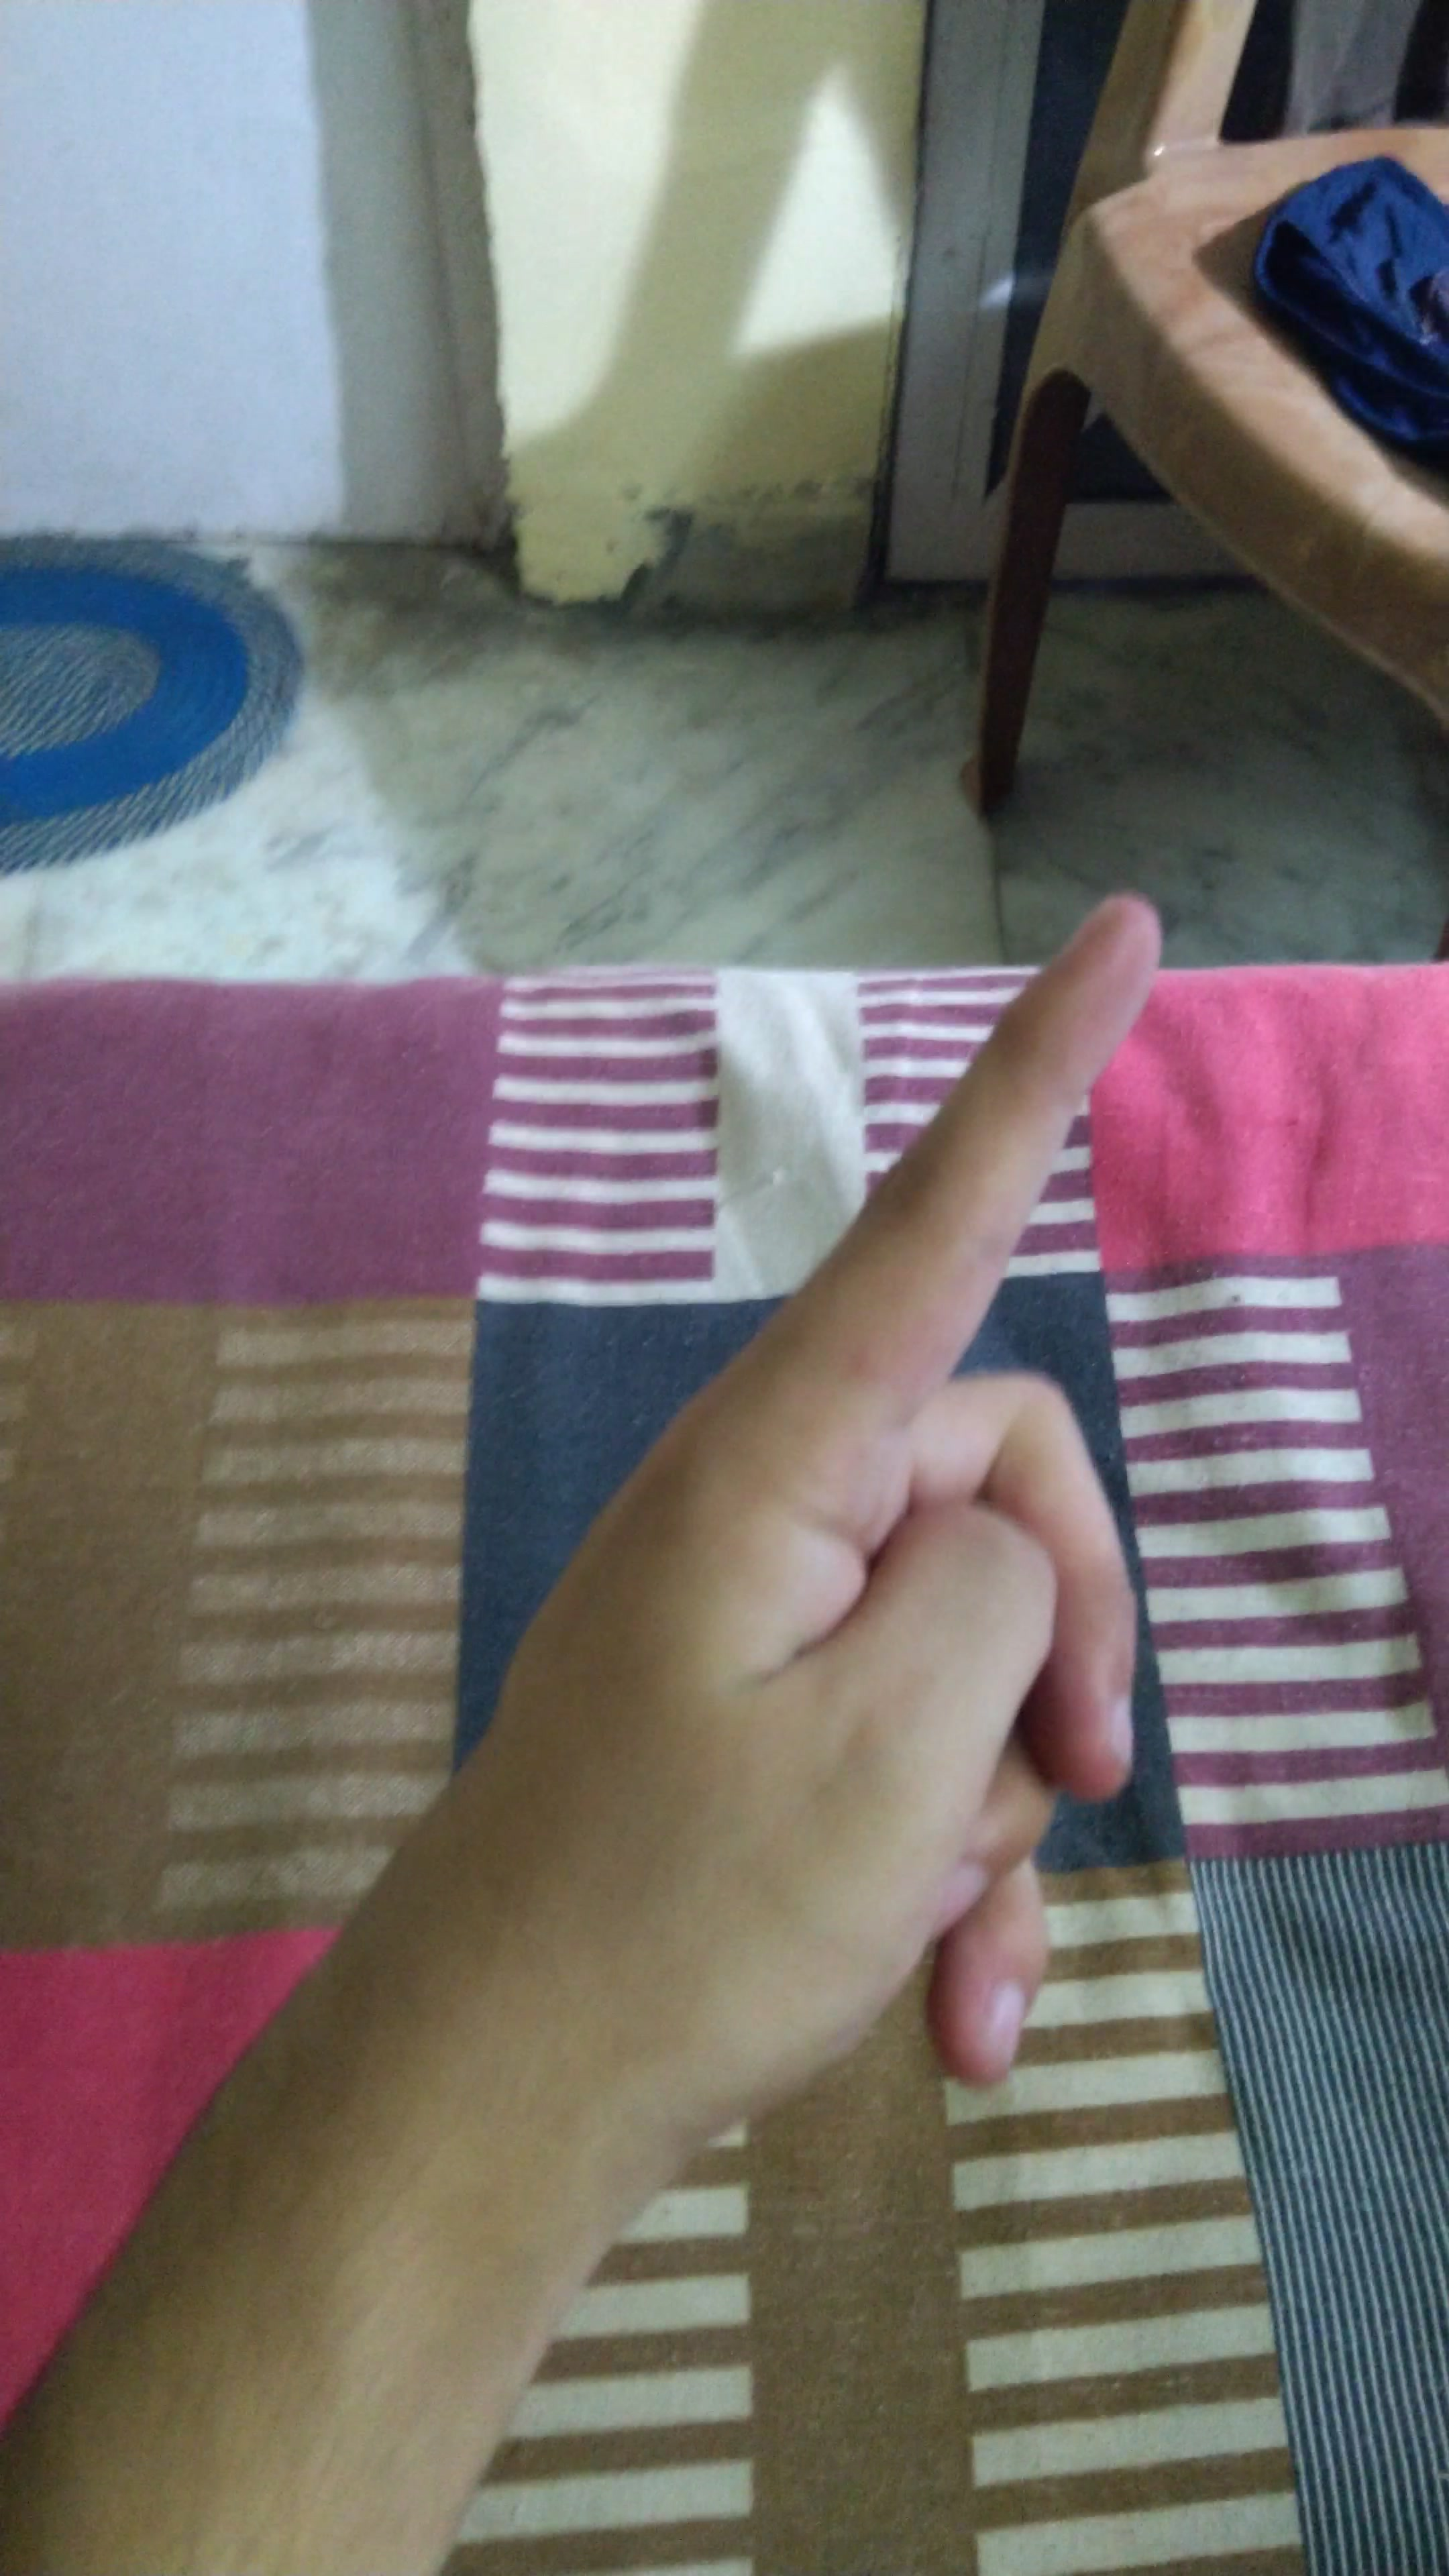hand: (354, 823, 1212, 2181)
